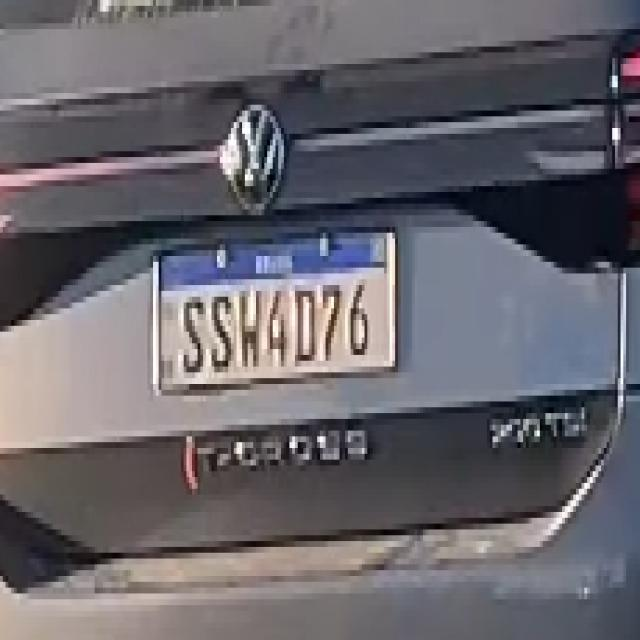Placa_mercosul_carro: (152, 230, 396, 399)
